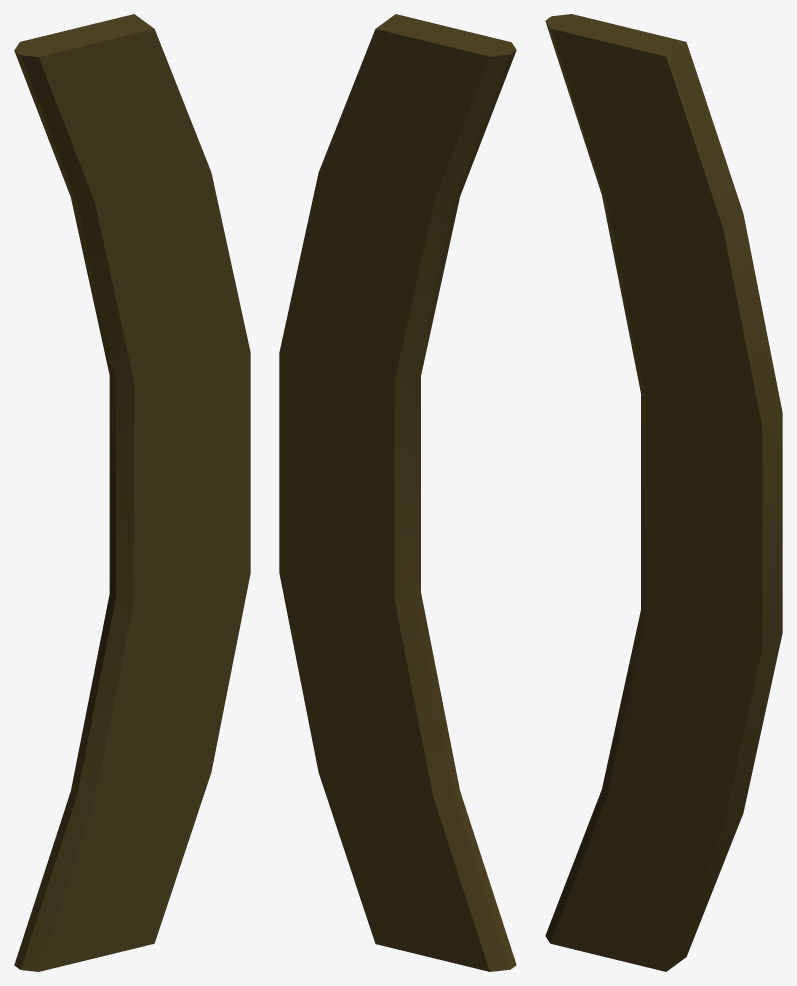
File: SM_WallU_01.fbx
The picture shows the model from 3 angles, left to right: view 1: azimuth 30°, elevation 25°; view 2: azimuth 150°, elevation 25°; view 3: azimuth 330°, elevation 25°; orthographic projection.
Parts seen in each view (by area): view 1: SM_WallU_01; view 2: SM_WallU_01; view 3: SM_WallU_01.
Part boxes in pixels (x1,y1,x2,y2): SM_WallU_01: (14,14,250,971); SM_WallU_01: (279,14,516,971); SM_WallU_01: (545,14,782,971).
Size of the model in its own units: 1.02 by 0.1602 by 3.99.
